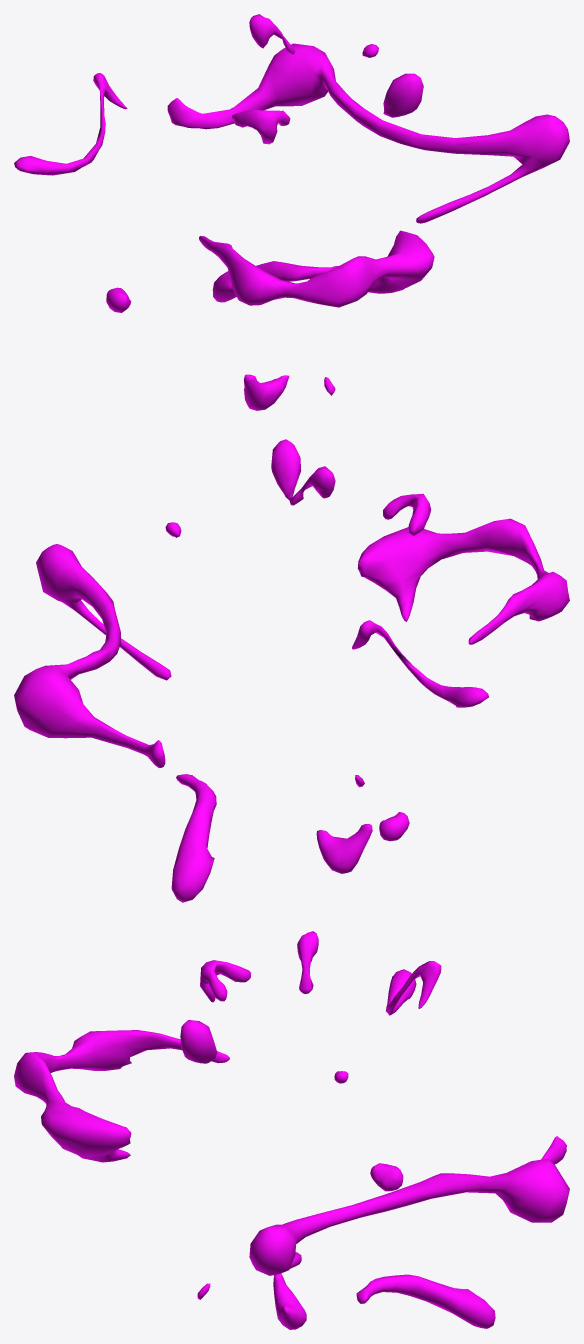
File: p_mesh_spudgun_impactflash04_pose0.fbx
3 views of the same model, one above another, from view 1: azimuth 30°, elevation 25°; view 2: azimuth 150°, elevation 25°; view 3: azimuth 270°, elevation 25° (orthographic). The views are drawn at different scales.
Parts seen in each view (by area): view 1: p_trashball_goo_pose0; view 2: p_trashball_goo_pose0; view 3: p_trashball_goo_pose0.
Part boxes in pixels (x1,y1,x2,y2): p_trashball_goo_pose0: [14, 14, 569, 410]; p_trashball_goo_pose0: [14, 439, 569, 902]; p_trashball_goo_pose0: [14, 931, 569, 1329].
Bounding box in the file's own units: 24.89 × 18.82 × 23.73.
Materials: 1 (1 with a texture image).
